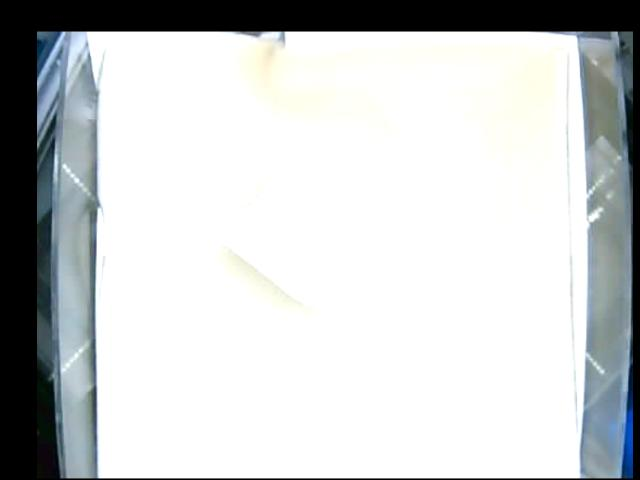Cup: (221, 128, 412, 317)
